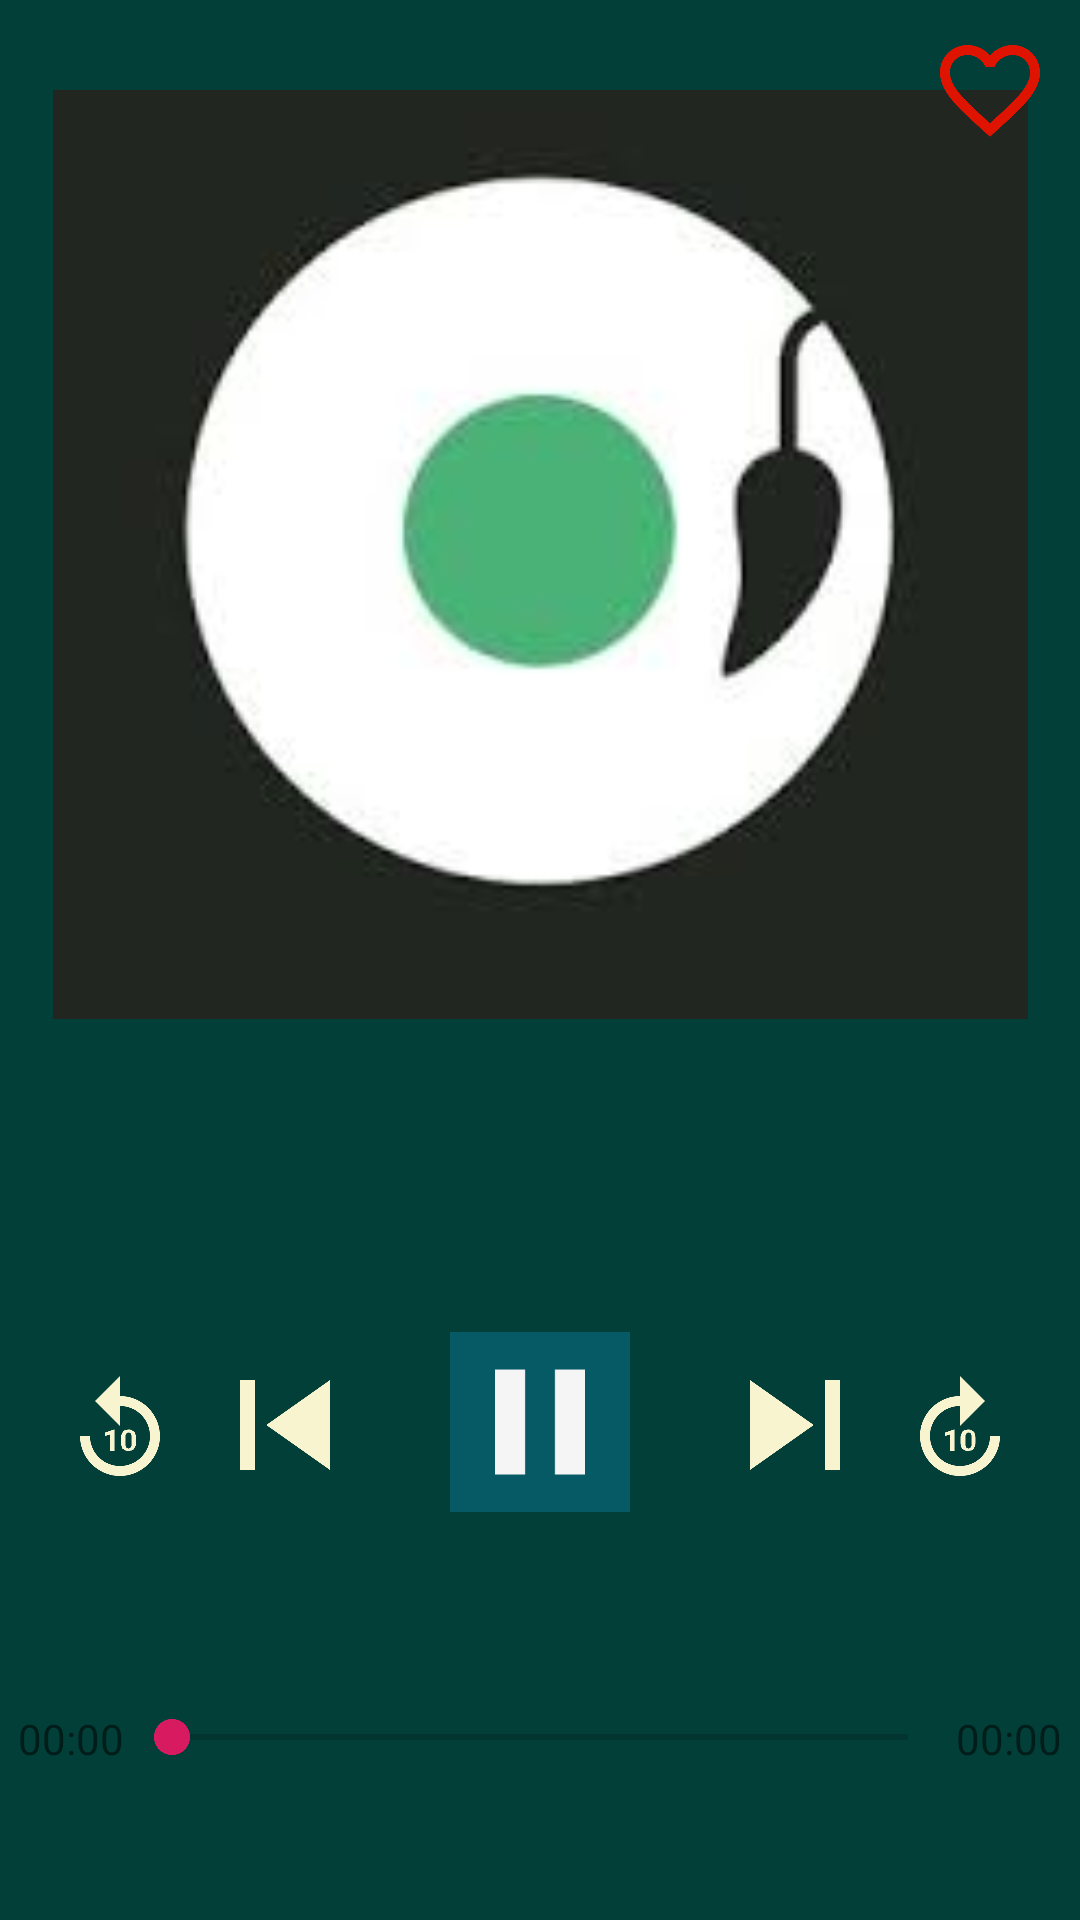

Screen size 1080px x 1920px. Icon name, then its center in pixels as (x,y):
fav: (985,97)
forward ten: (960,1426)
pause: (540,1422)
prev ten: (120,1426)
